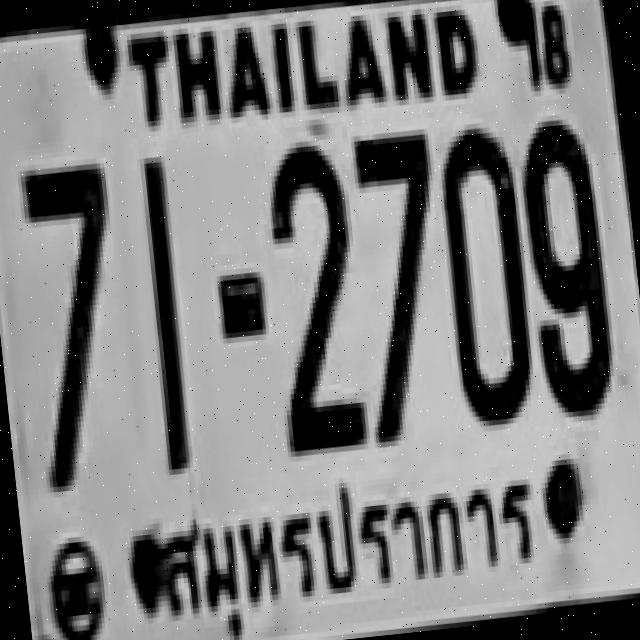0: (431, 120, 536, 423)
1: (131, 154, 195, 472)
2: (257, 138, 369, 452)
7: (15, 158, 130, 482), (342, 128, 454, 442), (17, 158, 124, 399)
9: (514, 115, 616, 416)
SamutPrakan: (142, 453, 547, 628)
